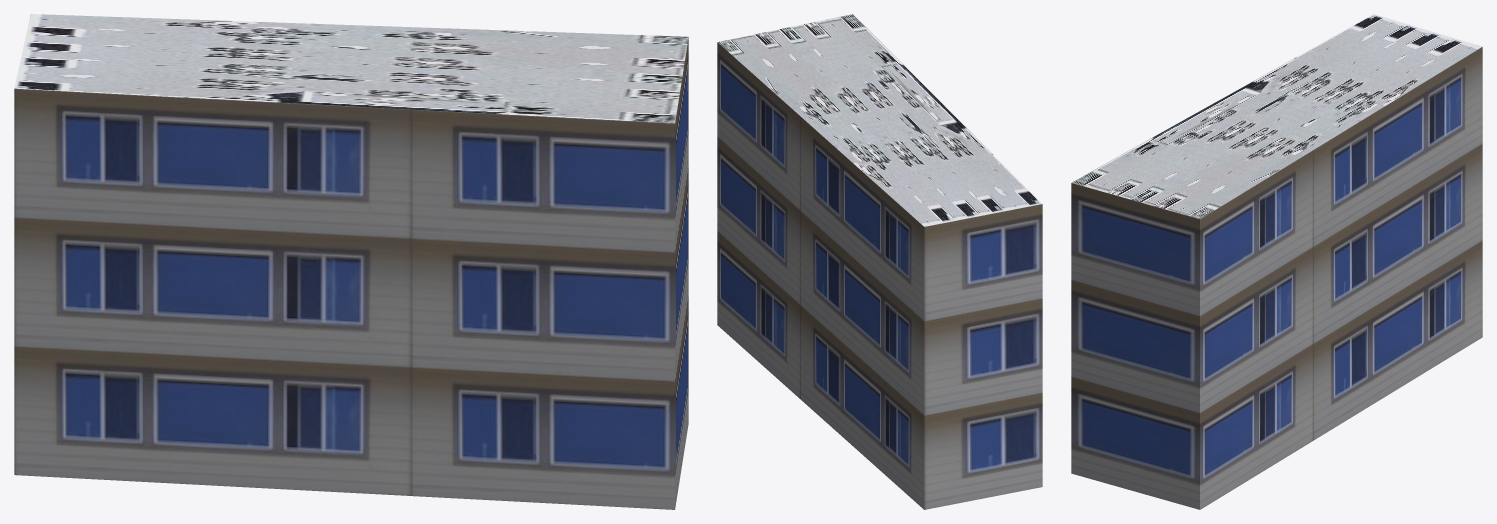
Rendered from ResTex__952.fbx.
3 renders of one model, left to right at view 1: azimuth 30°, elevation 25°; view 2: azimuth 150°, elevation 25°; view 3: azimuth 270°, elevation 25°, orthographic. The views are drawn at different scales.
Parts seen in each view (by area): view 1: CityEngineMaterial_23_m, CityEngineMaterial_4_m; view 2: CityEngineMaterial_23_m, CityEngineMaterial_4_m; view 3: CityEngineMaterial_23_m, CityEngineMaterial_4_m.
Part boxes in pixels (<box>): CityEngineMaterial_23_m: <box>14,38,688,509</box>; CityEngineMaterial_4_m: <box>14,14,688,123</box>; CityEngineMaterial_23_m: <box>717,42,1042,509</box>; CityEngineMaterial_4_m: <box>717,14,1041,226</box>; CityEngineMaterial_23_m: <box>1071,47,1482,509</box>; CityEngineMaterial_4_m: <box>1071,14,1481,218</box>.
Size of the model in its own units: 13.63 by 9 by 11.54.
Materials: 2 (2 with a texture image).
